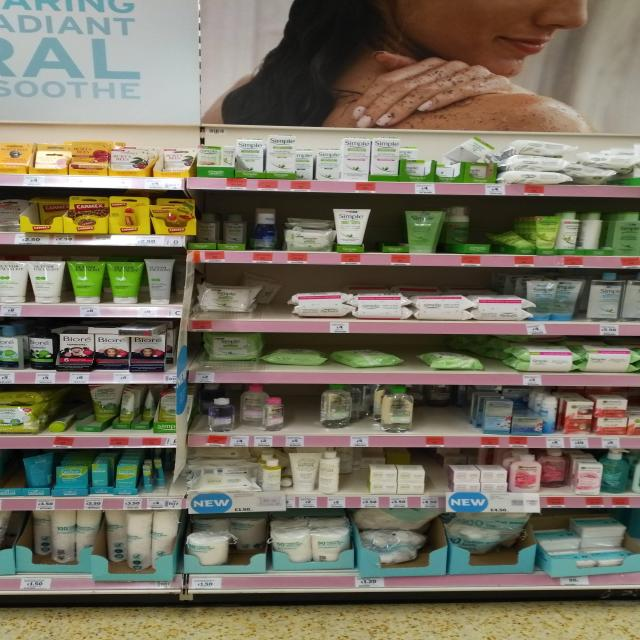empty: (417, 388, 466, 434), (370, 207, 405, 252), (286, 387, 319, 428), (2, 453, 21, 488), (427, 464, 448, 492)
